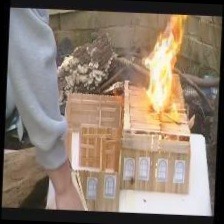fire: (143, 12, 195, 120)
